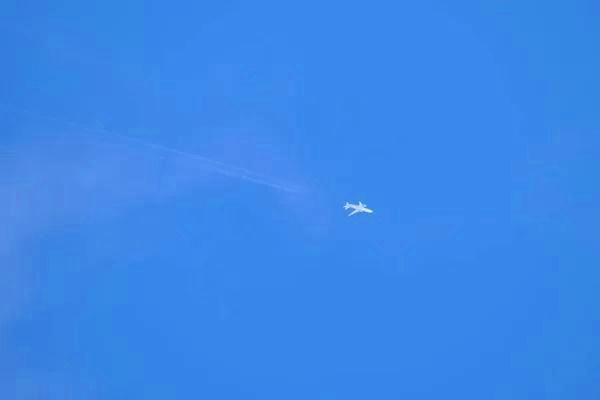Plane: (328, 192, 391, 225)
